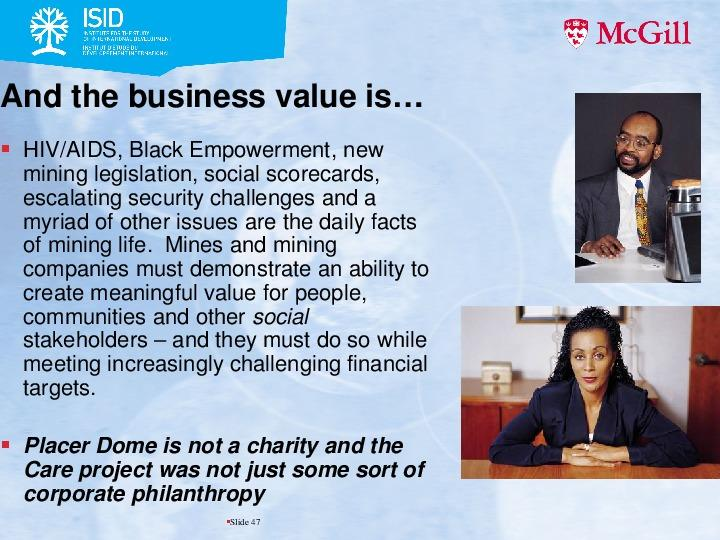paragraph: (1, 136, 450, 524)
subtitle: (78, 4, 700, 64)
title: (3, 72, 439, 128)
